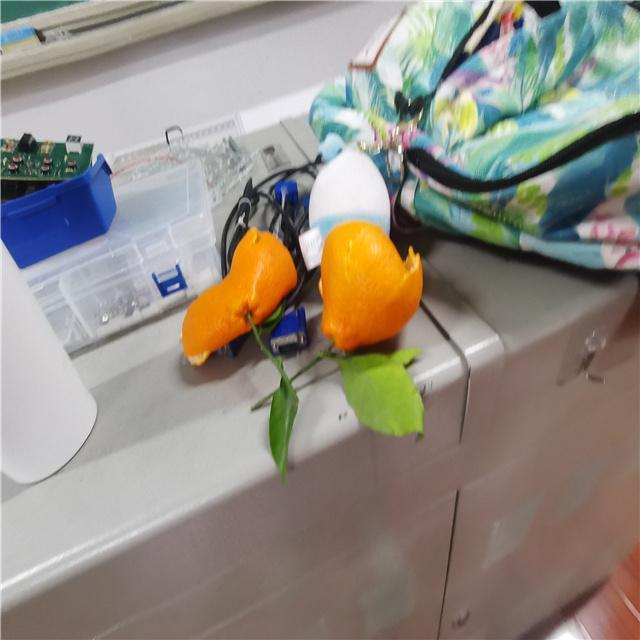orange peel: (182, 225, 298, 365), (318, 216, 424, 352)
